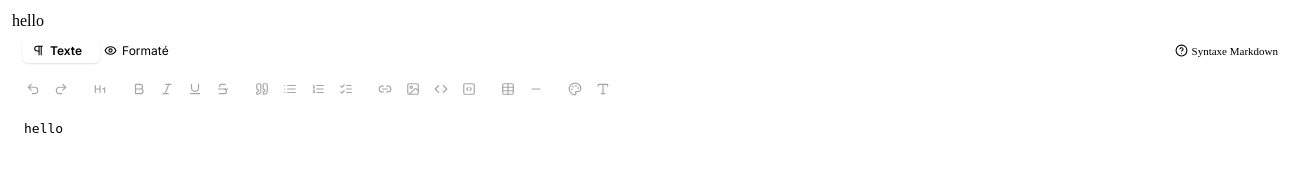
MarkdownEditor bascule de mode › reprend l'édition faite dans la source Markdown au retour en mode Formaté
Replace the text in the text box with "# Titre" at (652, 139), box x1=12 y1=107 x2=1292 y2=171
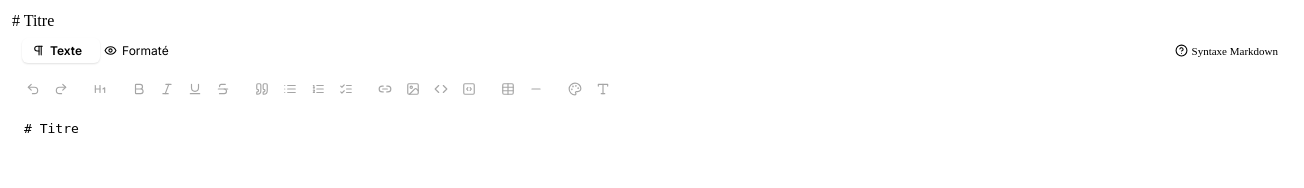
Click the tab "Formaté" at (136, 50), box x1=94 y1=38 x2=179 y2=63
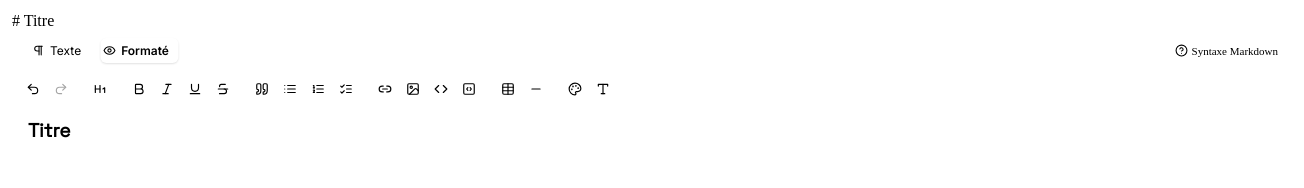
Result: the heading "Titre" is shown at x1=28 y1=118 x2=70 y2=143
Click the tab "Texte" at (57, 50), box x1=22 y1=38 x2=91 y2=63
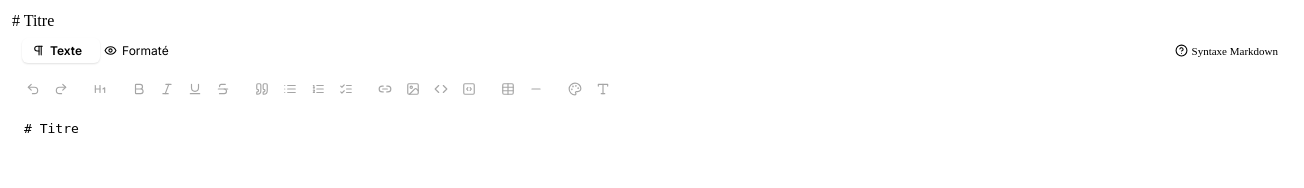
Result: the text box holds "# Titre" at x1=12 y1=107 x2=1292 y2=171
